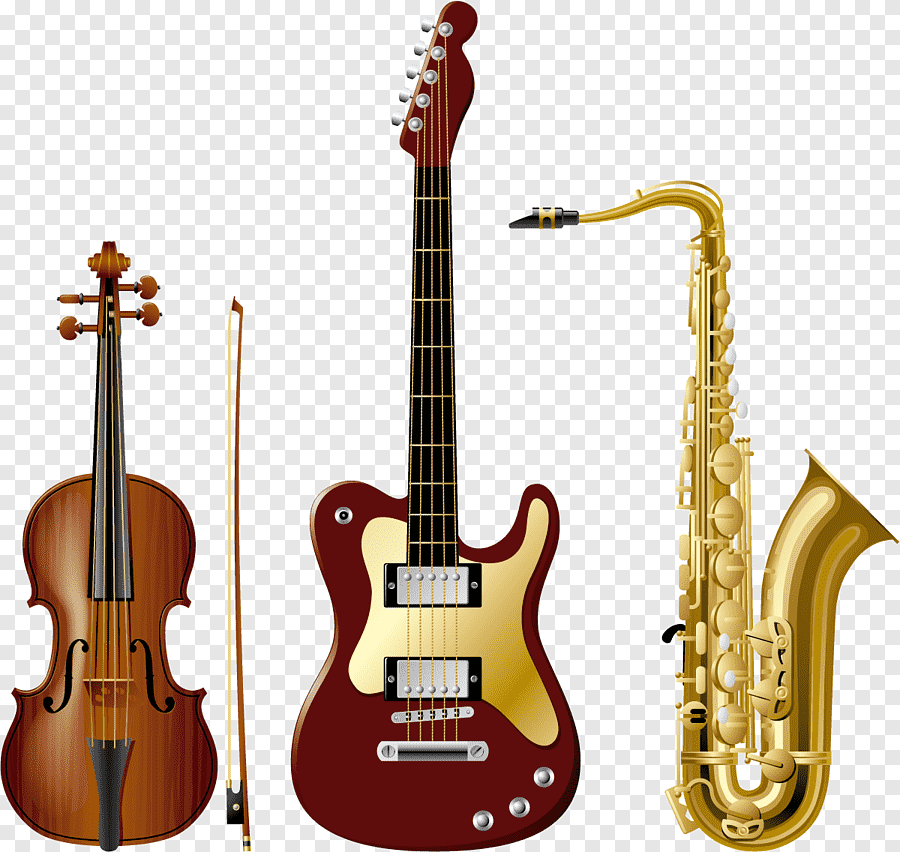Saxophone: (485, 157, 900, 852)
Violin: (1, 214, 289, 852)
